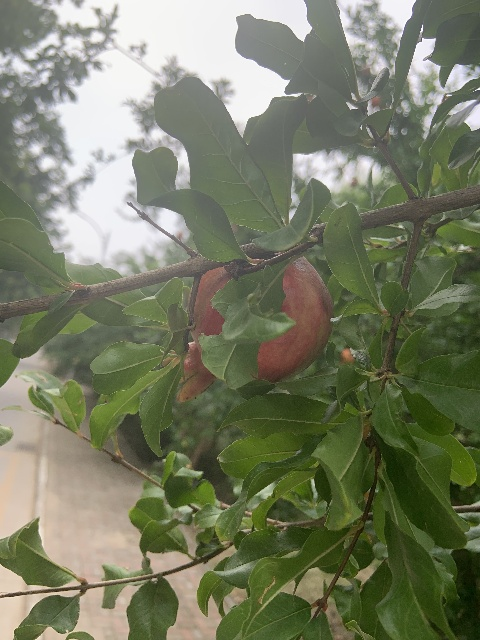ripe: (162, 255, 330, 401)
